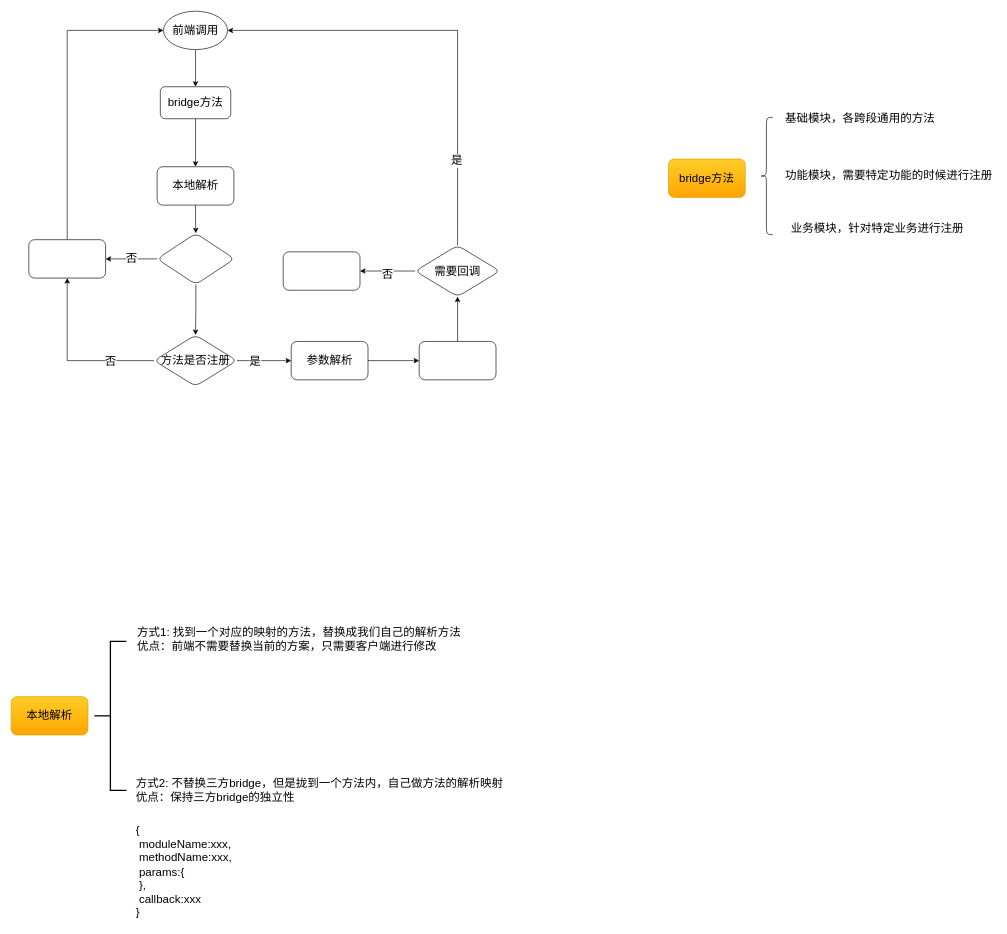
The diagram is 1007 pixels wide and 934 high, and some of its shapes have lost their labels. The shapes that lost their labels are listed below. From the top down, each one's centre as x and y in pixels, then its label:
At point (67, 258): "调用失败".
At point (195, 258): "模块是否注册".
At point (321, 270): "结束".
At point (457, 360): "调用原生方法".
